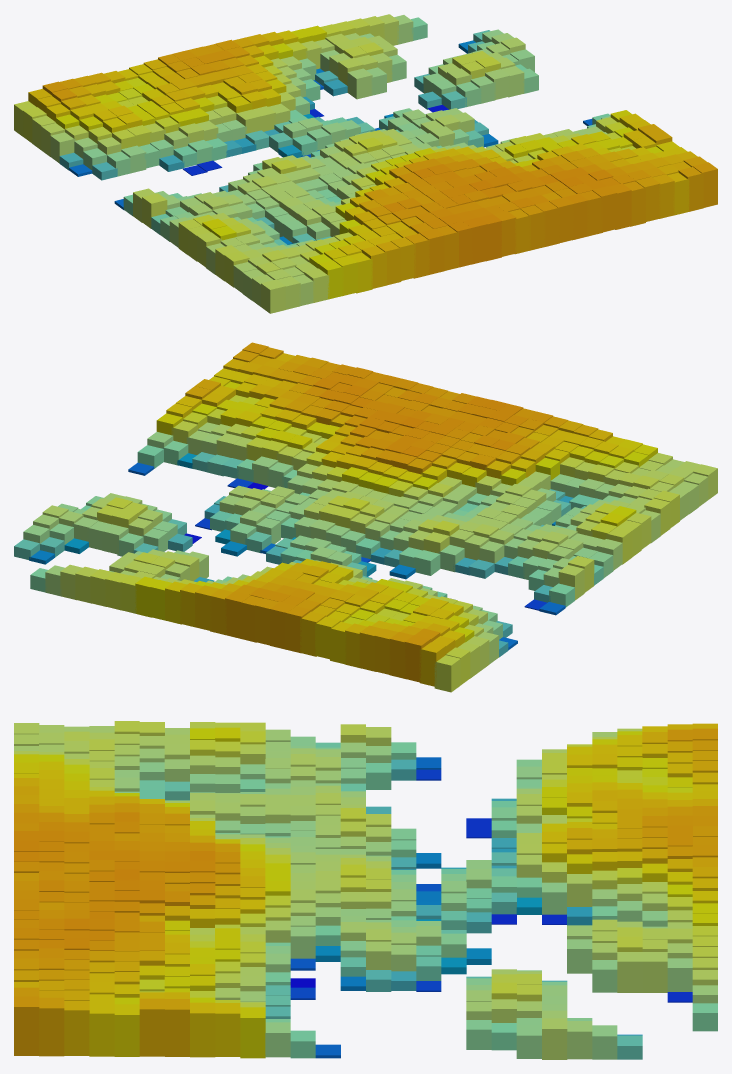
Rendered from population.glb.
The picture shows the model from 3 angles, top to bottom: view 1: azimuth 30°, elevation 25°; view 2: azimuth 150°, elevation 25°; view 3: azimuth 270°, elevation 25°; orthographic projection. The views are drawn at different scales.
Parts seen in each view (by area): view 1: population; view 2: population; view 3: population.
Boxes of the visible parts, x1=… form: population: x1=14, y1=14, x2=717, y2=313; population: x1=14, y1=342, x2=717, y2=692; population: x1=14, y1=721, x2=717, y2=1059.
Bounding box in the file's own units: 2812 × 246 × 2787.
